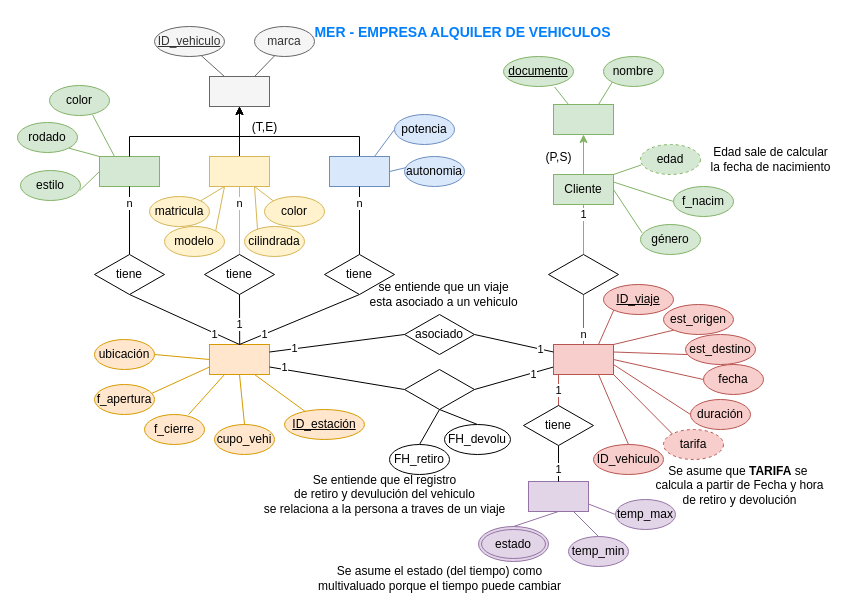
Some shapes in this 858 by 615 pixel diagram are drawn without their labels. The shapes that lost their labels are listed below. From the top down, each one's centre as x and y in pixels, then its label:
the point at 239,91: Vehículo
the point at 583,119: Persona
the point at 129,171: Bici
the point at 239,171: Moto
the point at 359,171: Monopatín
the point at 583,274: realiza
the point at 239,359: Estación
the point at 583,359: Viaje
the point at 439,389: registro
the point at 558,496: Tiempo
